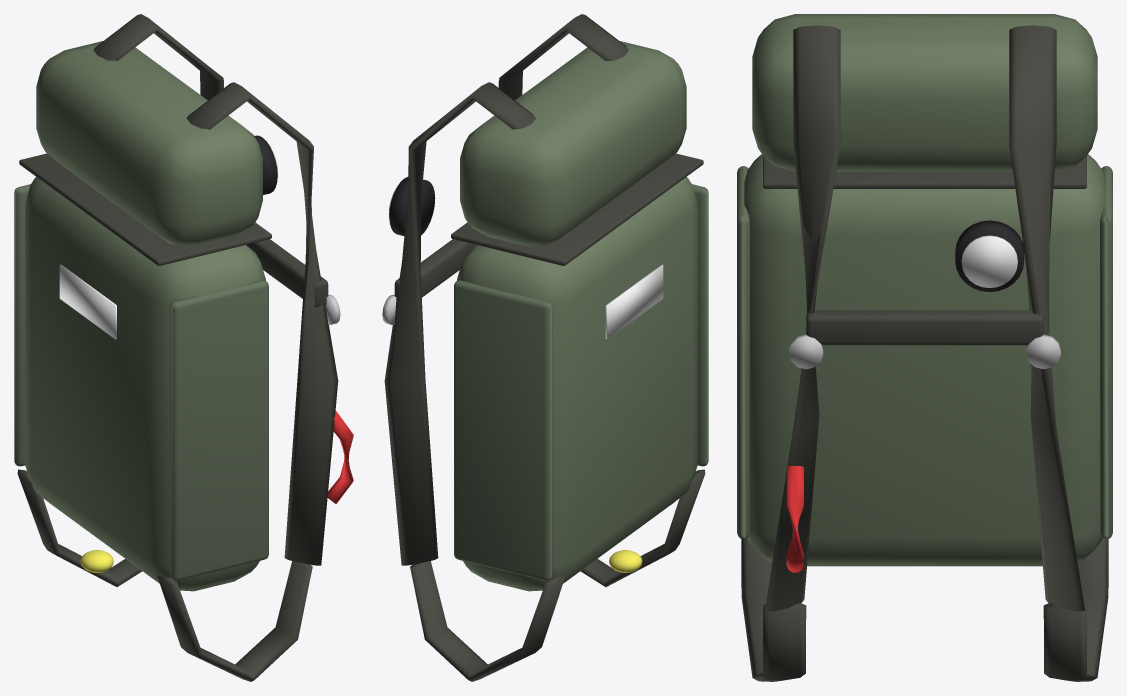
The model's file is SM_Parachute.glb.
3 renders of one model, left to right at view 1: azimuth 30°, elevation 25°; view 2: azimuth 150°, elevation 25°; view 3: azimuth 270°, elevation 25°, orthographic. The views are drawn at different scales.
Parts seen in each view (by area): view 1: SM_Parachute; view 2: SM_Parachute; view 3: SM_Parachute.
Boxes of the visible parts, x1,y1,x2,y2 form: SM_Parachute: (14,14,353,681); SM_Parachute: (382,14,708,681); SM_Parachute: (737,14,1112,681).
Bounding box in the file's own units: 0.2654 × 0.6813 × 0.348.
